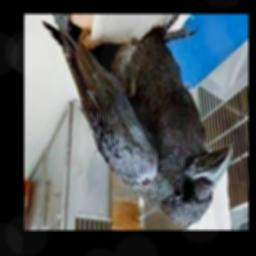Crow: (42, 15, 232, 226)
